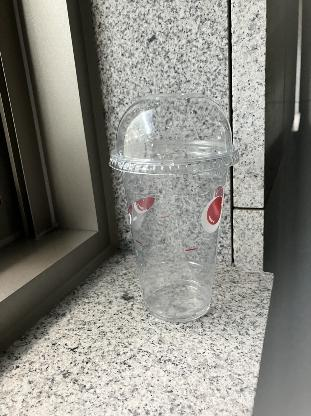Plastic Cup: (110, 92, 243, 324), (108, 93, 243, 175)
